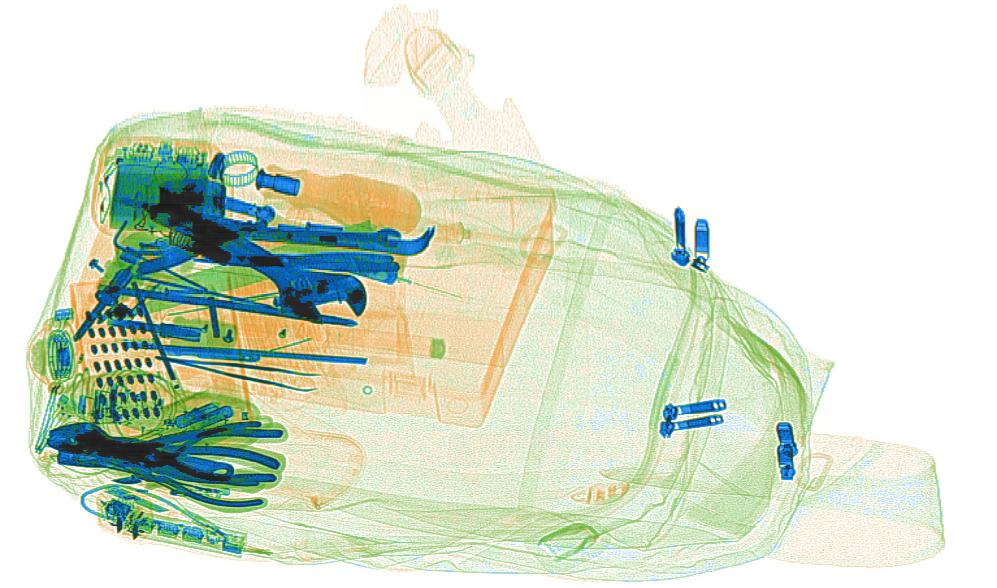battery: (173, 400, 234, 434)
knife: (160, 345, 262, 362)
